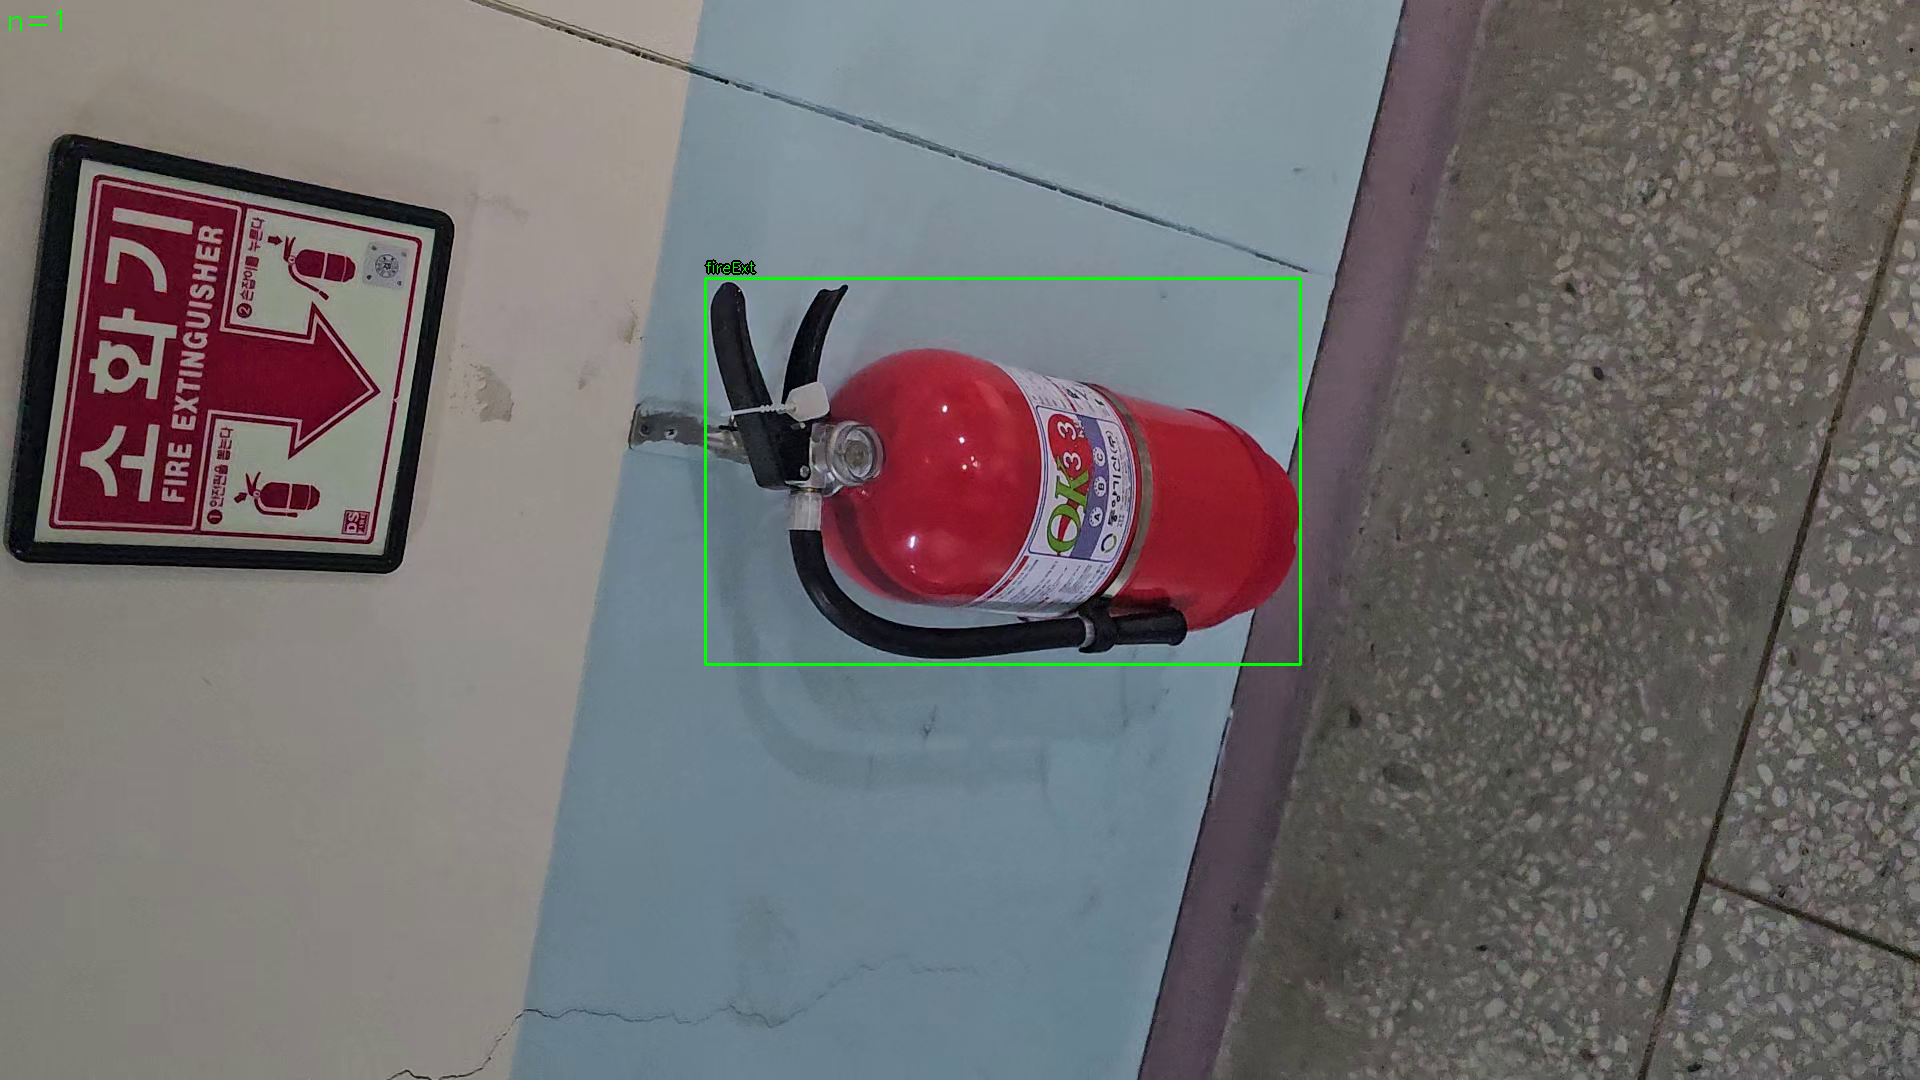lane: (705, 278, 1302, 665)
